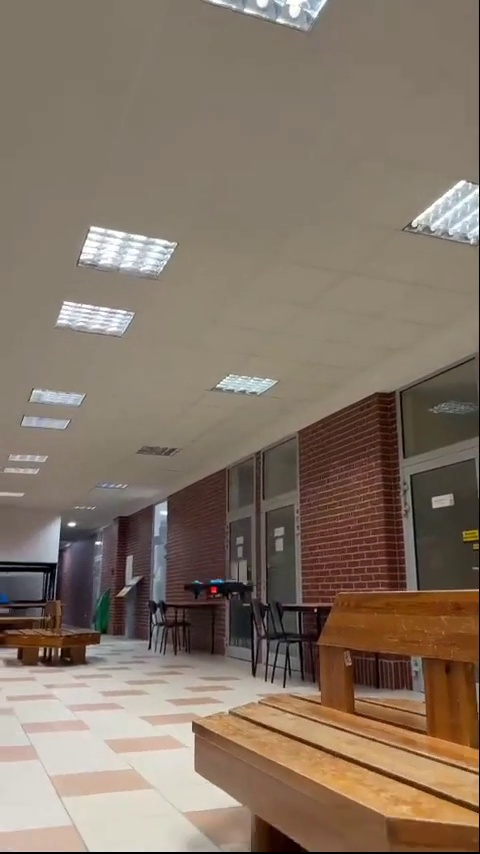drone: (182, 577, 260, 614)
